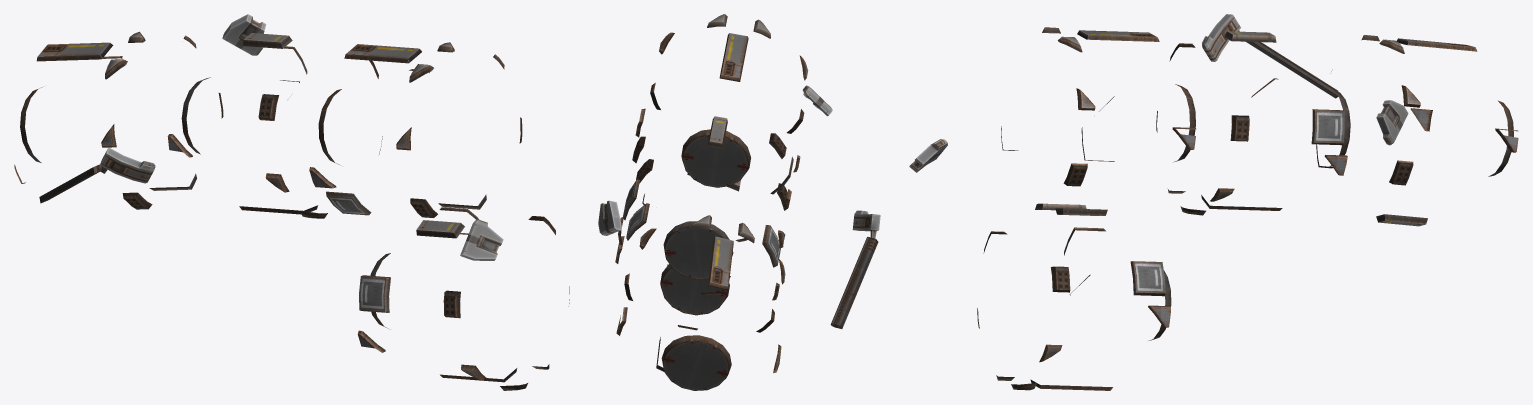
Rendered from prop_static_generic_container_01_01_0.glb.
3 views of the same model, side by side, from view 1: azimuth 30°, elevation 25°; view 2: azimuth 150°, elevation 25°; view 3: azimuth 270°, elevation 25° (orthographic). The views are drawn at different scales.
Parts seen in each view (by area): view 1: generic_container_01_01_LOD0; view 2: generic_container_01_01_LOD0; view 3: generic_container_01_01_LOD0.
Part boxes in pixels (bbox=[...]): generic_container_01_01_LOD0: bbox=[14, 14, 569, 390]; generic_container_01_01_LOD0: bbox=[598, 14, 880, 390]; generic_container_01_01_LOD0: bbox=[909, 14, 1518, 390].
Size of what is drawn, in the model's own units: 3.63 by 3.16 by 5.08.
Materials: 1 (1 with a texture image).
